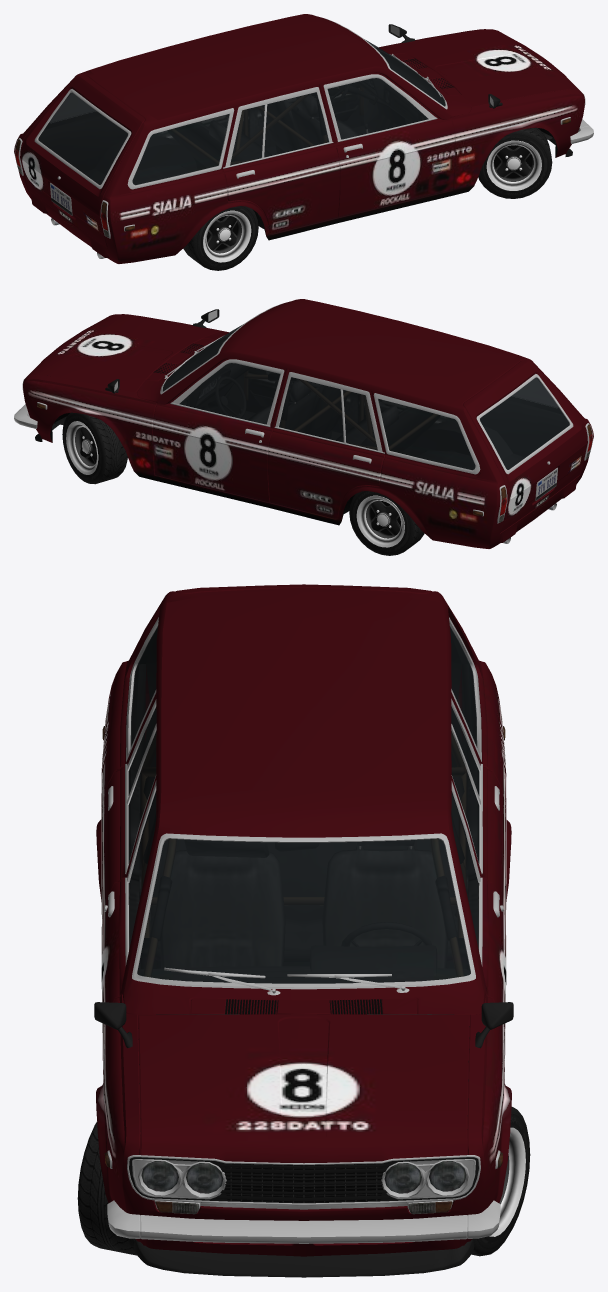
The model's file is tcr.glb.
3 renders of one model, top to bottom at view 1: azimuth 30°, elevation 25°; view 2: azimuth 150°, elevation 25°; view 3: azimuth 270°, elevation 25°, orthographic. The views are drawn at different scales.
Visible parts, largest first — view 1: SialiaSW68_Racemod_Body_SialiaSW68_body_0, SialiaSW68_Interior_Stock001_UCB_Interiors_2_0, SialiaSW68_Body_Glass001_UCB_Lights_and_Glass_Transperent_0, SialiaSW68_hood001_SialiaSW68_body_0, SialiaSW68_Racemod_Trim_UCB_BOTTOM_GT_0, SialiaSW68_Trunkdoor_Glass001_UCB_Lights_and_Glass_Transpere, SialiaSW68_WheelTuned_FR_RB1c_Tire_1k_0, SialiaSW68_Glass_Passenger001_UCB_Lights_and_Glass_Transpere, SialiaSW68_WheelTuned_RR_RB1c_Tire_1k_0, SialiaSW68_Rollcage_UCB_BOTTOM_GT_0, SialiaSW68_Windshield001_UCB_Lights_and_Glass_Transperent_0, SialiaSW68_Racemod_Bottom_UCB_BOTTOM_GT_0 (+1 smaller); view 2: SialiaSW68_Racemod_Body_SialiaSW68_body_0, SialiaSW68_Interior_Stock001_UCB_Interiors_2_0, SialiaSW68_Body_Glass001_UCB_Lights_and_Glass_Transperent_0, SialiaSW68_hood001_SialiaSW68_body_0, SialiaSW68_Racemod_Trim_UCB_BOTTOM_GT_0, SialiaSW68_Trunkdoor_Glass001_UCB_Lights_and_Glass_Transpere, SialiaSW68_Glass_Driver001_UCB_Lights_and_Glass_Transperent_, SialiaSW68_WheelTuned_FL_RB1c_Tire_1k_0, SialiaSW68_WheelTuned_RL_RB1c_Tire_1k_0, SialiaSW68_Rollcage_UCB_BOTTOM_GT_0, SialiaSW68_Windshield001_UCB_Lights_and_Glass_Transperent_0, SialiaSW68_Racemod_Bottom_UCB_BOTTOM_GT_0 (+2 smaller); view 3: SialiaSW68_Racemod_Body_SialiaSW68_body_0, SialiaSW68_hood001_SialiaSW68_body_0, SialiaSW68_Interior_Stock001_UCB_Interiors_2_0, SialiaSW68_Windshield001_UCB_Lights_and_Glass_Transperent_0, SialiaSW68_Racemod_Trim_UCB_BOTTOM_GT_0, SialiaSW68_bumper_front_B_UCB_BOTTOM_GT_0, SialiaSW68_Racemod_Bottom_UCB_BOTTOM_GT_0, SialiaSW68_Body_Glass001_UCB_Lights_and_Glass_Transperent_0, SialiaSW68_Rollcage_UCB_BOTTOM_GT_0, SialiaSW68_headlights_Glass001_UCB_Lights_and_Glass_Transper, SialiaSW68_headlights001_UCB_Lights_and_Glass_0, SialiaSW68_WheelTuned_FR_RB1c_Tire_1k_0 (+3 smaller).
Part boxes in pixels (<box>): SialiaSW68_Racemod_Body_SialiaSW68_body_0: <box>14,14,584,263</box>; SialiaSW68_Interior_Stock001_UCB_Interiors_2_0: <box>38,51,444,184</box>; SialiaSW68_Body_Glass001_UCB_Lights_and_Glass_Transperent_0: <box>50,92,328,185</box>; SialiaSW68_hood001_SialiaSW68_body_0: <box>388,29,580,107</box>; SialiaSW68_Racemod_Trim_UCB_BOTTOM_GT_0: <box>14,19,585,238</box>; SialiaSW68_Trunkdoor_Glass001_UCB_Lights_and_Glass_Transpere: <box>38,92,127,184</box>; SialiaSW68_WheelTuned_FR_RB1c_Tire_1k_0: <box>478,127,552,198</box>; SialiaSW68_Glass_Passenger001_UCB_Lights_and_Glass_Transpere: <box>327,78,428,139</box>; SialiaSW68_WheelTuned_RR_RB1c_Tire_1k_0: <box>183,206,258,270</box>; SialiaSW68_Rollcage_UCB_BOTTOM_GT_0: <box>170,86,363,165</box>; SialiaSW68_Windshield001_UCB_Lights_and_Glass_Transperent_0: <box>364,39,445,106</box>; SialiaSW68_Racemod_Bottom_UCB_BOTTOM_GT_0: <box>51,58,572,258</box>; SialiaSW68_Racemod_Body_SialiaSW68_body_0: <box>23,299,593,548</box>; SialiaSW68_Interior_Stock001_UCB_Interiors_2_0: <box>163,336,569,469</box>; SialiaSW68_Body_Glass001_UCB_Lights_and_Glass_Transperent_0: <box>279,377,557,470</box>; SialiaSW68_hood001_SialiaSW68_body_0: <box>27,314,219,392</box>; SialiaSW68_Racemod_Trim_UCB_BOTTOM_GT_0: <box>22,304,593,523</box>; SialiaSW68_Trunkdoor_Glass001_UCB_Lights_and_Glass_Transpere: <box>480,377,569,469</box>; SialiaSW68_Glass_Driver001_UCB_Lights_and_Glass_Transperent_: <box>179,363,280,424</box>; SialiaSW68_WheelTuned_FL_RB1c_Tire_1k_0: <box>62,412,127,484</box>; SialiaSW68_WheelTuned_RL_RB1c_Tire_1k_0: <box>349,491,424,555</box>; SialiaSW68_Rollcage_UCB_BOTTOM_GT_0: <box>244,371,437,450</box>; SialiaSW68_Windshield001_UCB_Lights_and_Glass_Transperent_0: <box>162,324,243,391</box>; SialiaSW68_Racemod_Bottom_UCB_BOTTOM_GT_0: <box>35,343,556,543</box>; SialiaSW68_Racemod_Body_SialiaSW68_body_0: <box>96,584,511,1256</box>; SialiaSW68_hood001_SialiaSW68_body_0: <box>138,1014,469,1163</box>; SialiaSW68_Interior_Stock001_UCB_Interiors_2_0: <box>128,628,479,1002</box>; SialiaSW68_Windshield001_UCB_Lights_and_Glass_Transperent_0: <box>137,838,470,983</box>; SialiaSW68_Racemod_Trim_UCB_BOTTOM_GT_0: <box>94,617,513,1212</box>; SialiaSW68_bumper_front_B_UCB_BOTTOM_GT_0: <box>107,1200,500,1243</box>; SialiaSW68_Racemod_Bottom_UCB_BOTTOM_GT_0: <box>96,833,511,1277</box>; SialiaSW68_Body_Glass001_UCB_Lights_and_Glass_Transperent_0: <box>128,626,479,863</box>; SialiaSW68_Rollcage_UCB_BOTTOM_GT_0: <box>140,731,467,976</box>; SialiaSW68_headlights_Glass001_UCB_Lights_and_Glass_Transper: <box>141,1161,466,1193</box>; SialiaSW68_headlights001_UCB_Lights_and_Glass_0: <box>142,1161,465,1193</box>; SialiaSW68_WheelTuned_FR_RB1c_Tire_1k_0: <box>77,1121,137,1255</box>.
Size of the model in its own units: 4.07 by 1.25 by 1.61.
7 materials, 7 textured.
